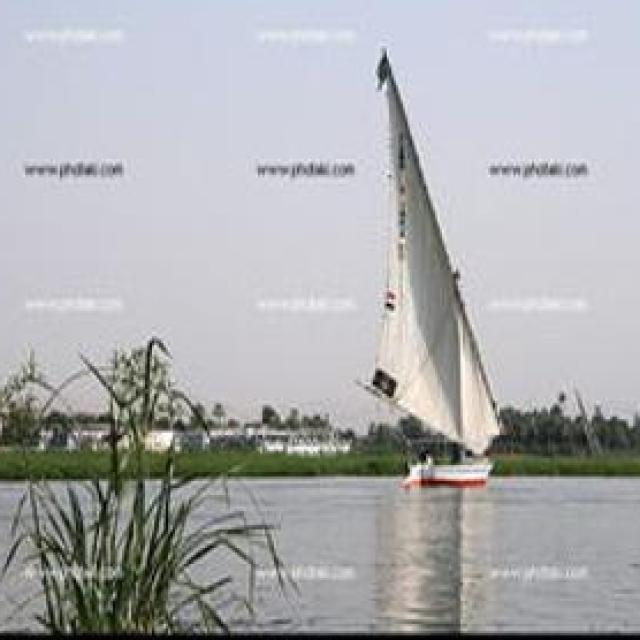sailboat: (294, 60, 525, 495)
